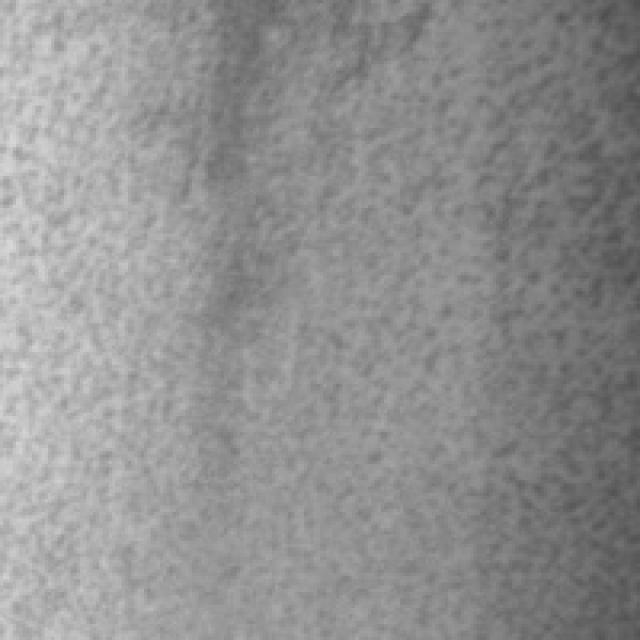pitted_surface: (240, 3, 630, 630), (9, 3, 348, 627)
